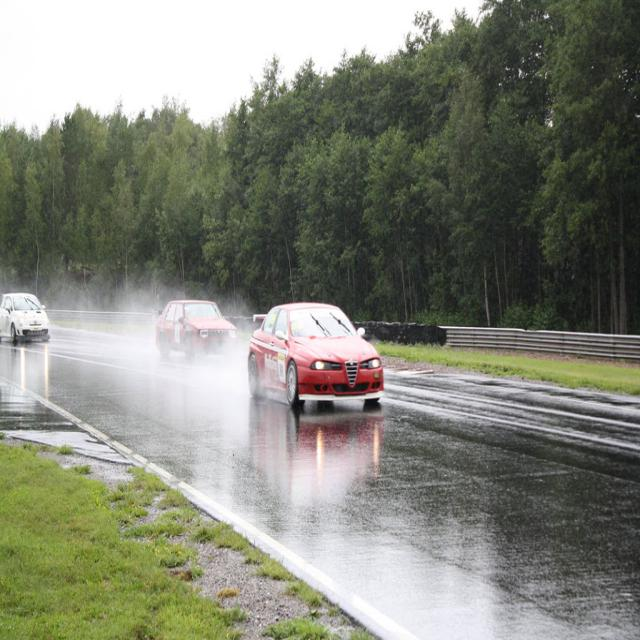car: (248, 294, 386, 416), (153, 290, 239, 362), (0, 289, 50, 345)
